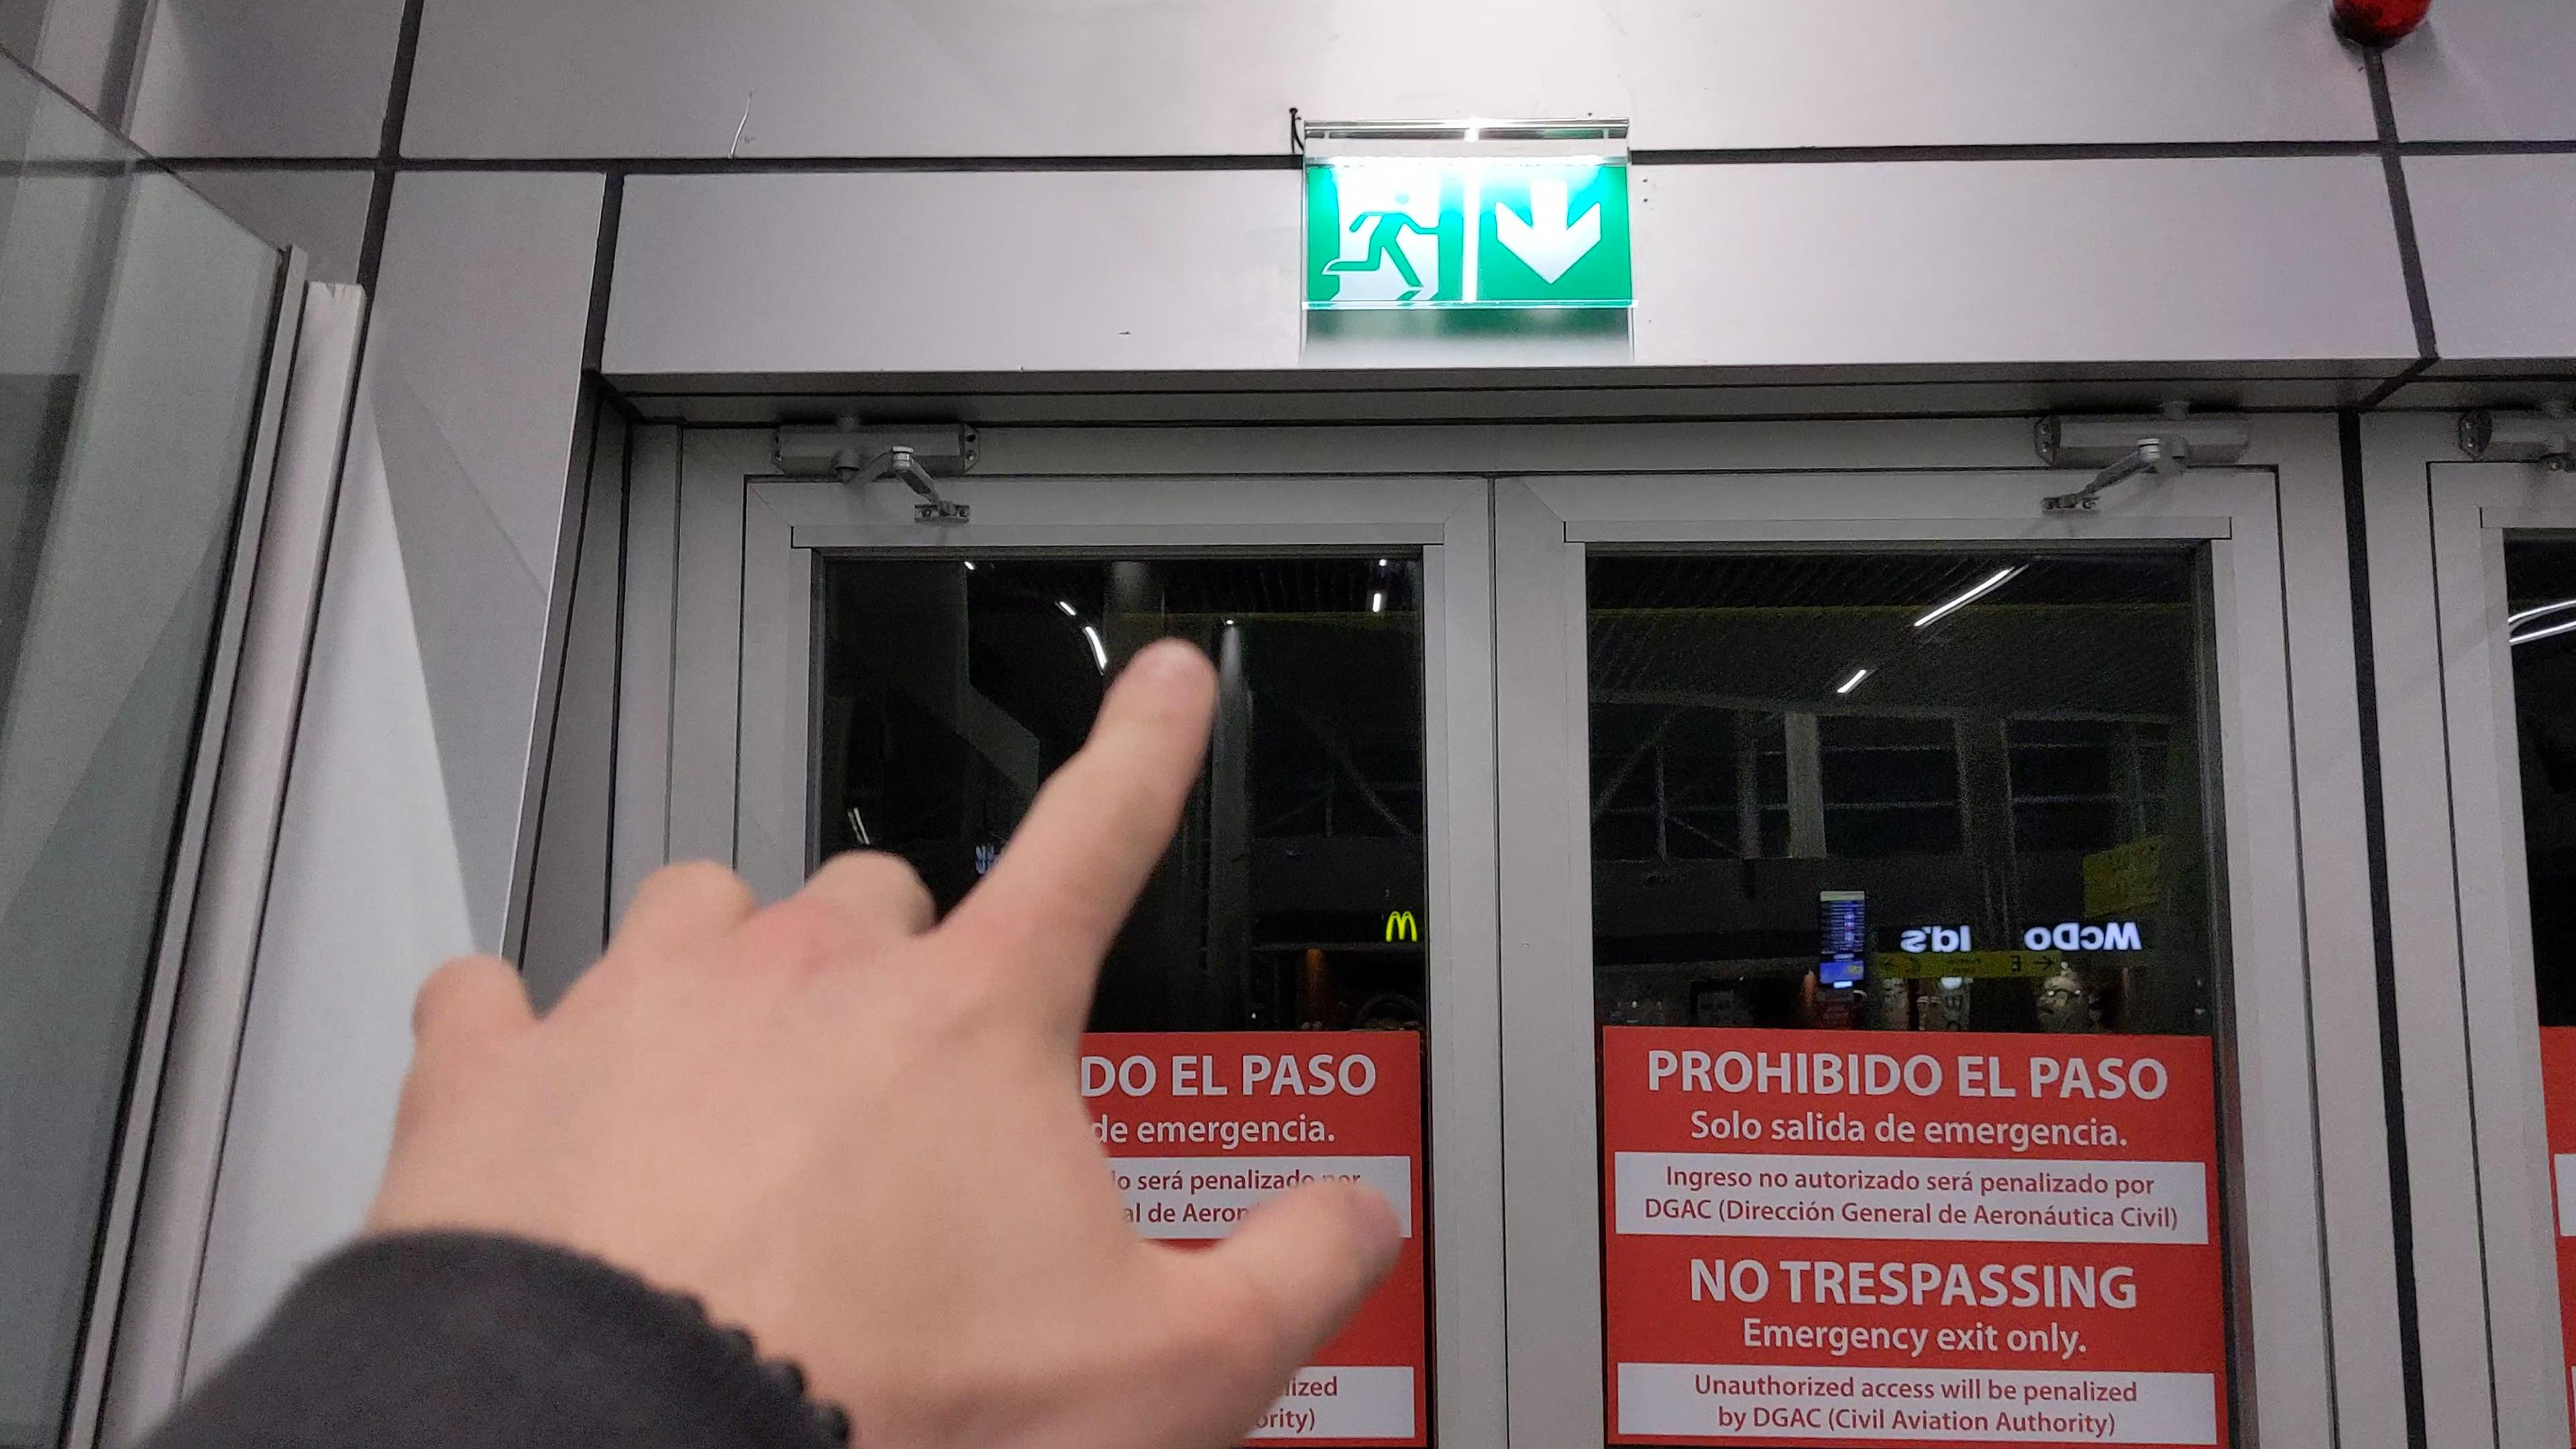emergency down arrow: (1490, 177, 1606, 288)
emergency exit: (1320, 186, 1440, 306)
